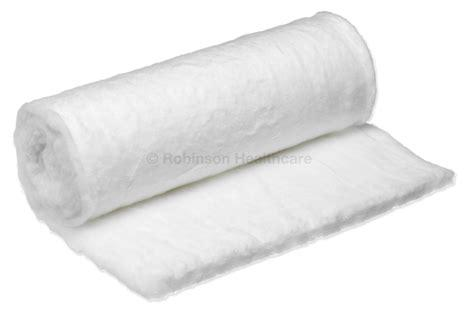cotton: (14, 13, 452, 302)
